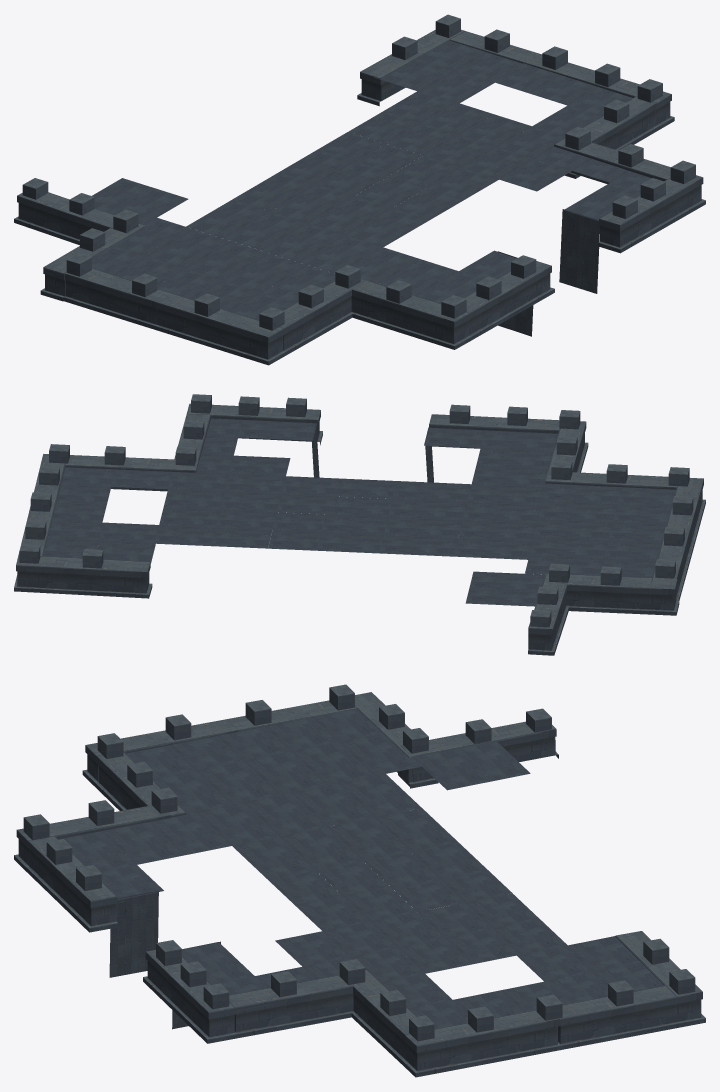
File: Area_15_4.fbx
3 views of the same model, one above another, from view 1: azimuth 30°, elevation 25°; view 2: azimuth 150°, elevation 25°; view 3: azimuth 270°, elevation 25° (orthographic). The views are drawn at different scales.
Visible parts, largest first — view 1: Area_15_4; view 2: Area_15_4; view 3: Area_15_4.
Part boxes in pixels (bbox=[...]): Area_15_4: bbox=[14, 14, 705, 365]; Area_15_4: bbox=[14, 394, 705, 655]; Area_15_4: bbox=[14, 684, 705, 1077].
Size of the model in its own units: 5029 by 645 by 4126.
